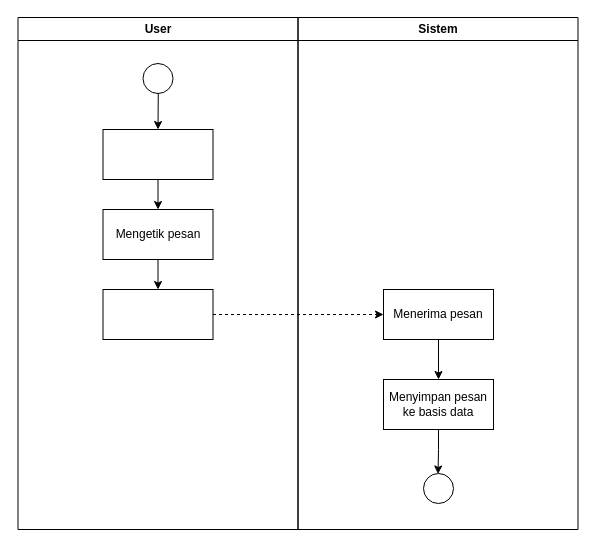
This 595x547 diagram has some shape labels left out. Each missing label, with the centre of its shape:
"Membuka chatbot layanan rumah sakit" goes at (157,154).
"Mengirim pesan" goes at (157,314).
